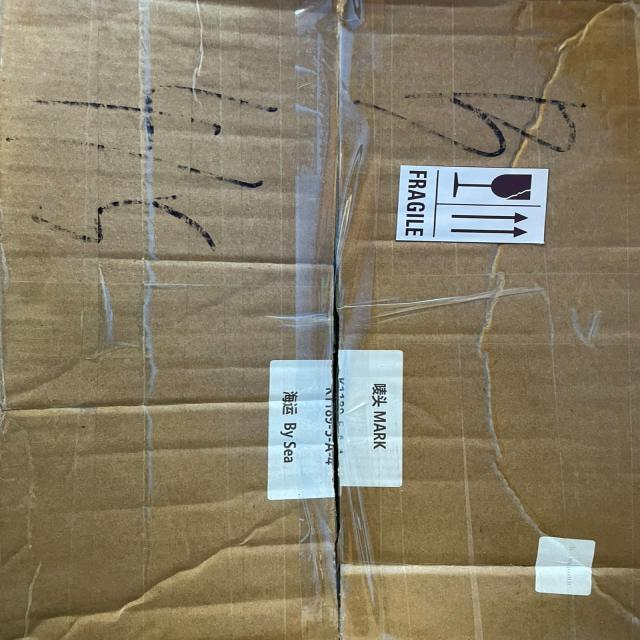carton_box: (0, 1, 640, 640)
fragile_label: (382, 148, 558, 261)
package_damage: (308, 248, 367, 546)
